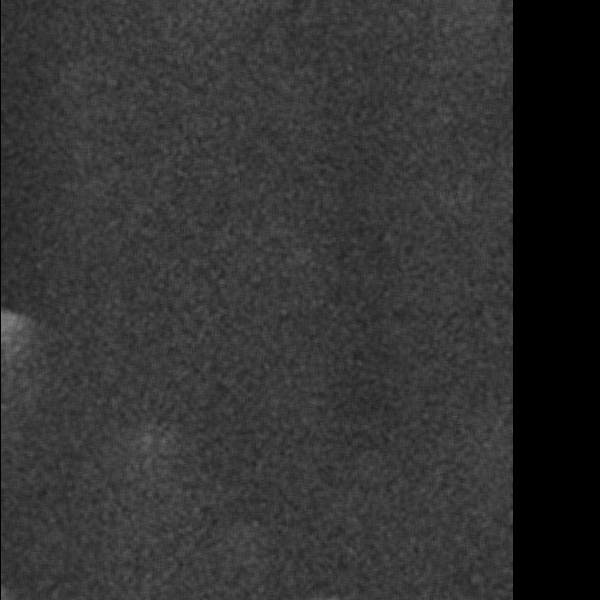spark: (369, 285, 409, 337), (190, 371, 233, 406), (487, 456, 515, 478)
